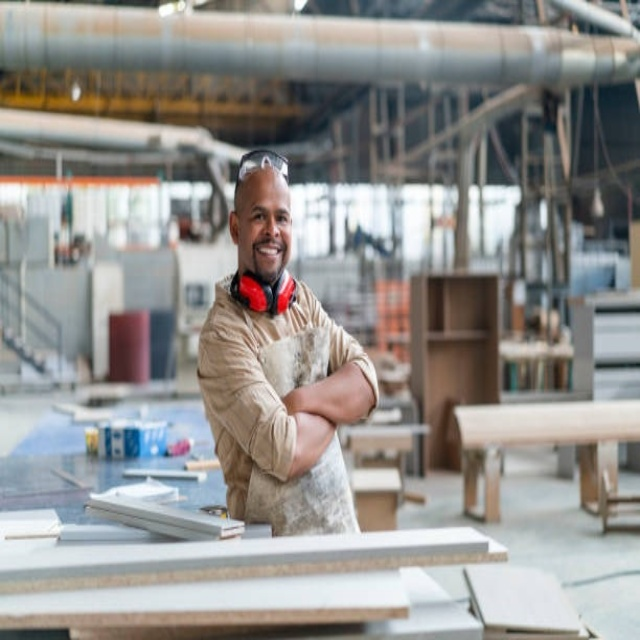Sin_gafas: (244, 201, 293, 231)
Sin_mascara: (253, 240, 287, 268)
